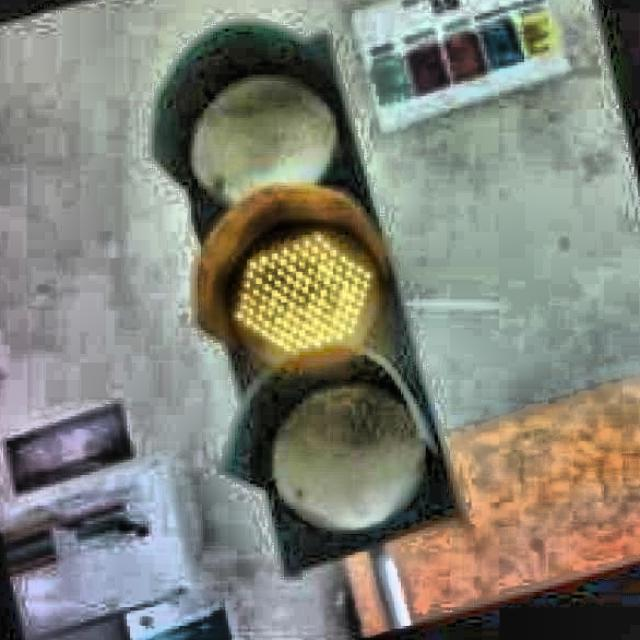yellow: (157, 36, 451, 540)
